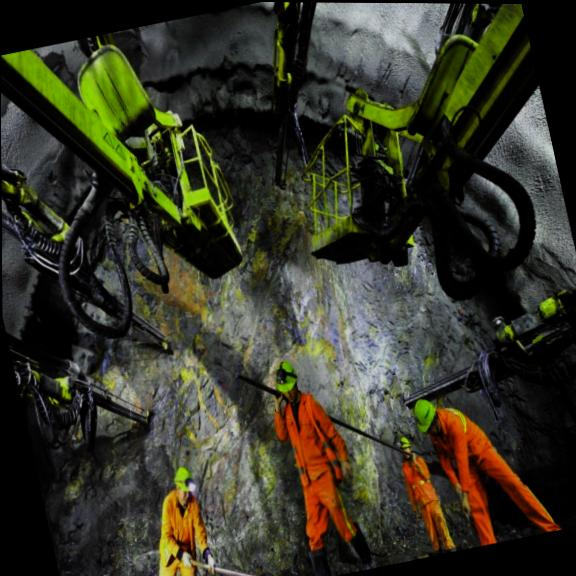safety_vest: (272, 388, 336, 486)
